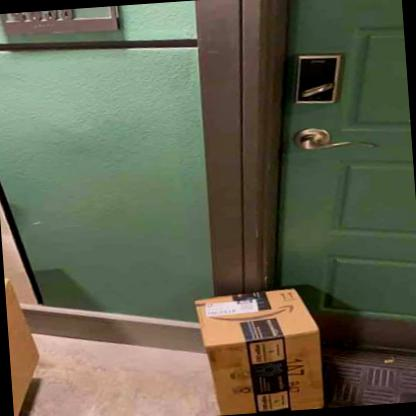box: (189, 288, 325, 413)
